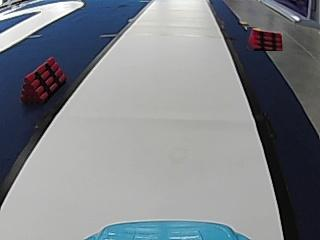bomb: (22, 54, 65, 103)
